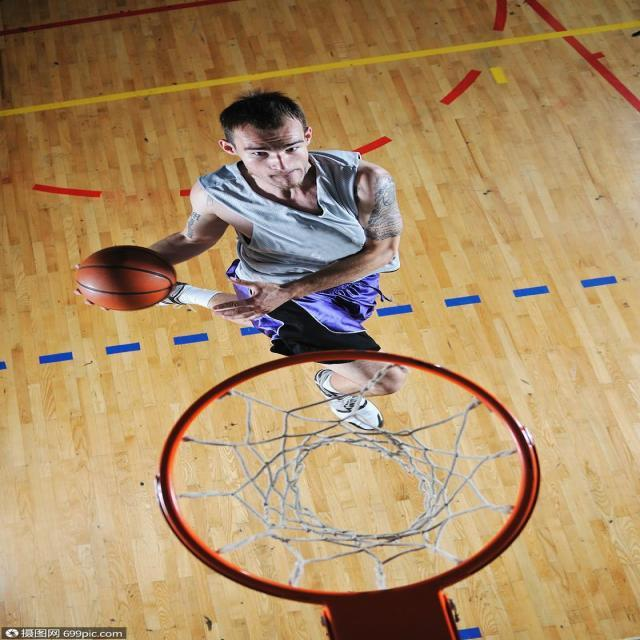rim: (77, 242, 172, 312)
